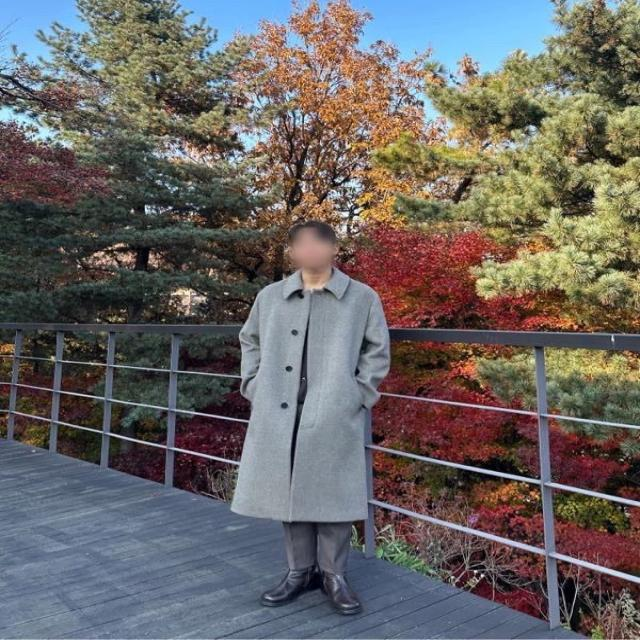coat: (234, 262, 391, 523)
slacks: (281, 520, 354, 575)
